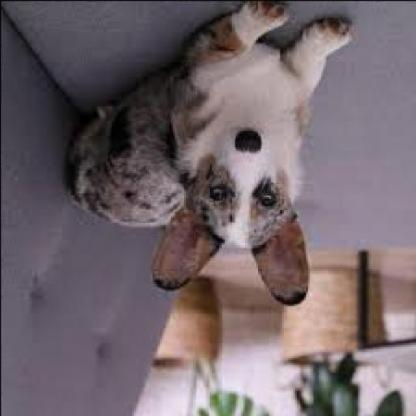dog: (64, 0, 356, 305)
